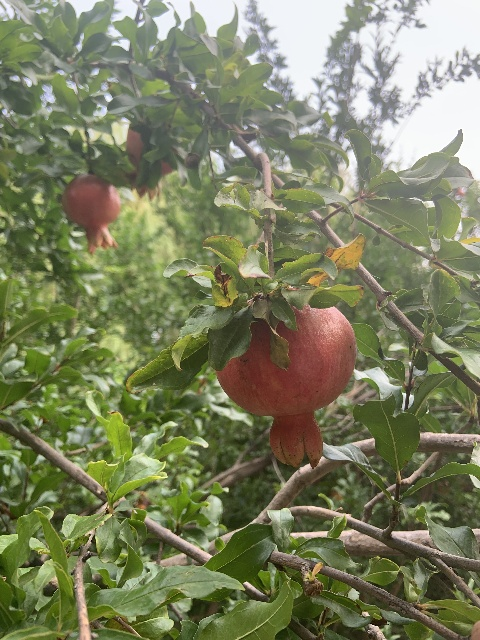ripe: (216, 301, 356, 468), (62, 175, 121, 253)
